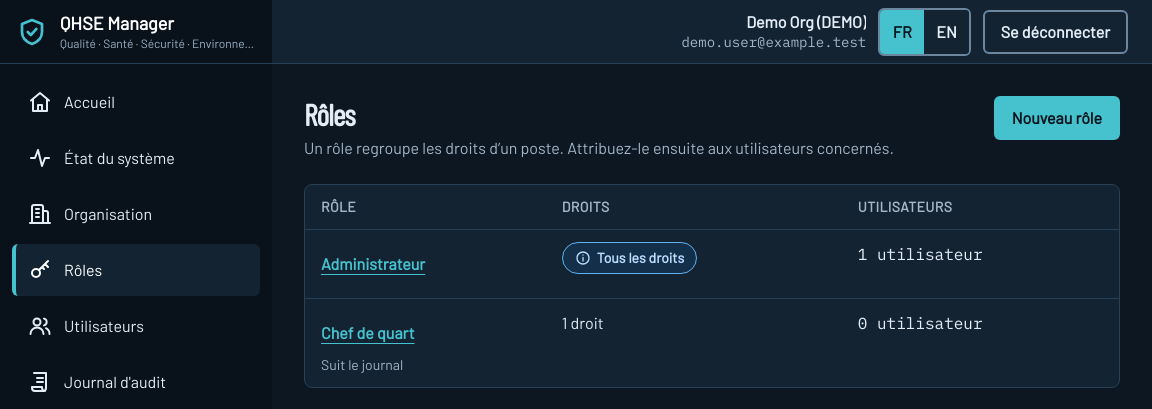
it: roles › lists roles, translating the reference ones and keeping the names chosen by the tenant
Expected: the link "Administrateur" is shown, [321,254,425,273]
Expected: the link "Chef de quart" is shown, [321,323,414,342]
Click the button with aria-label "English".
click(947, 32)  # box [924,10,969,54]
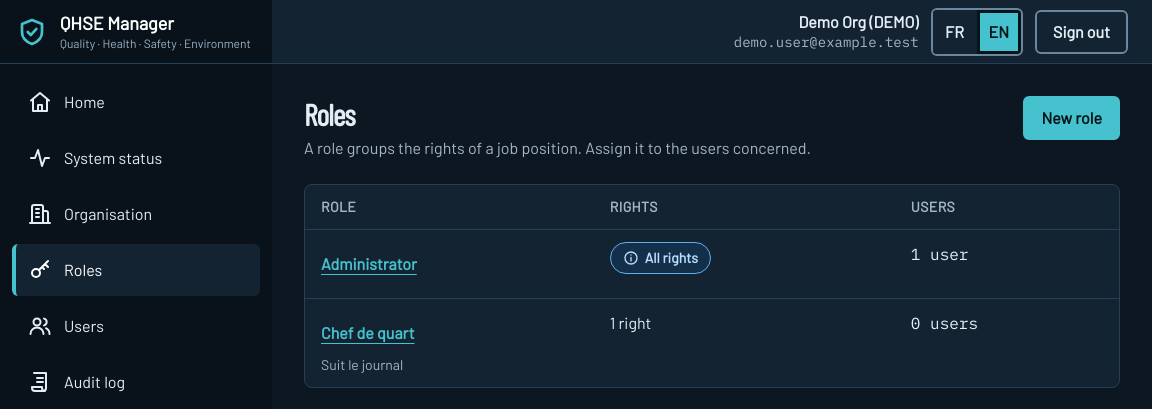
Expected: the link "Chef de quart" is shown, [321,323,414,342]
Now the link "Administrator" is shown, box [321,254,417,273]
